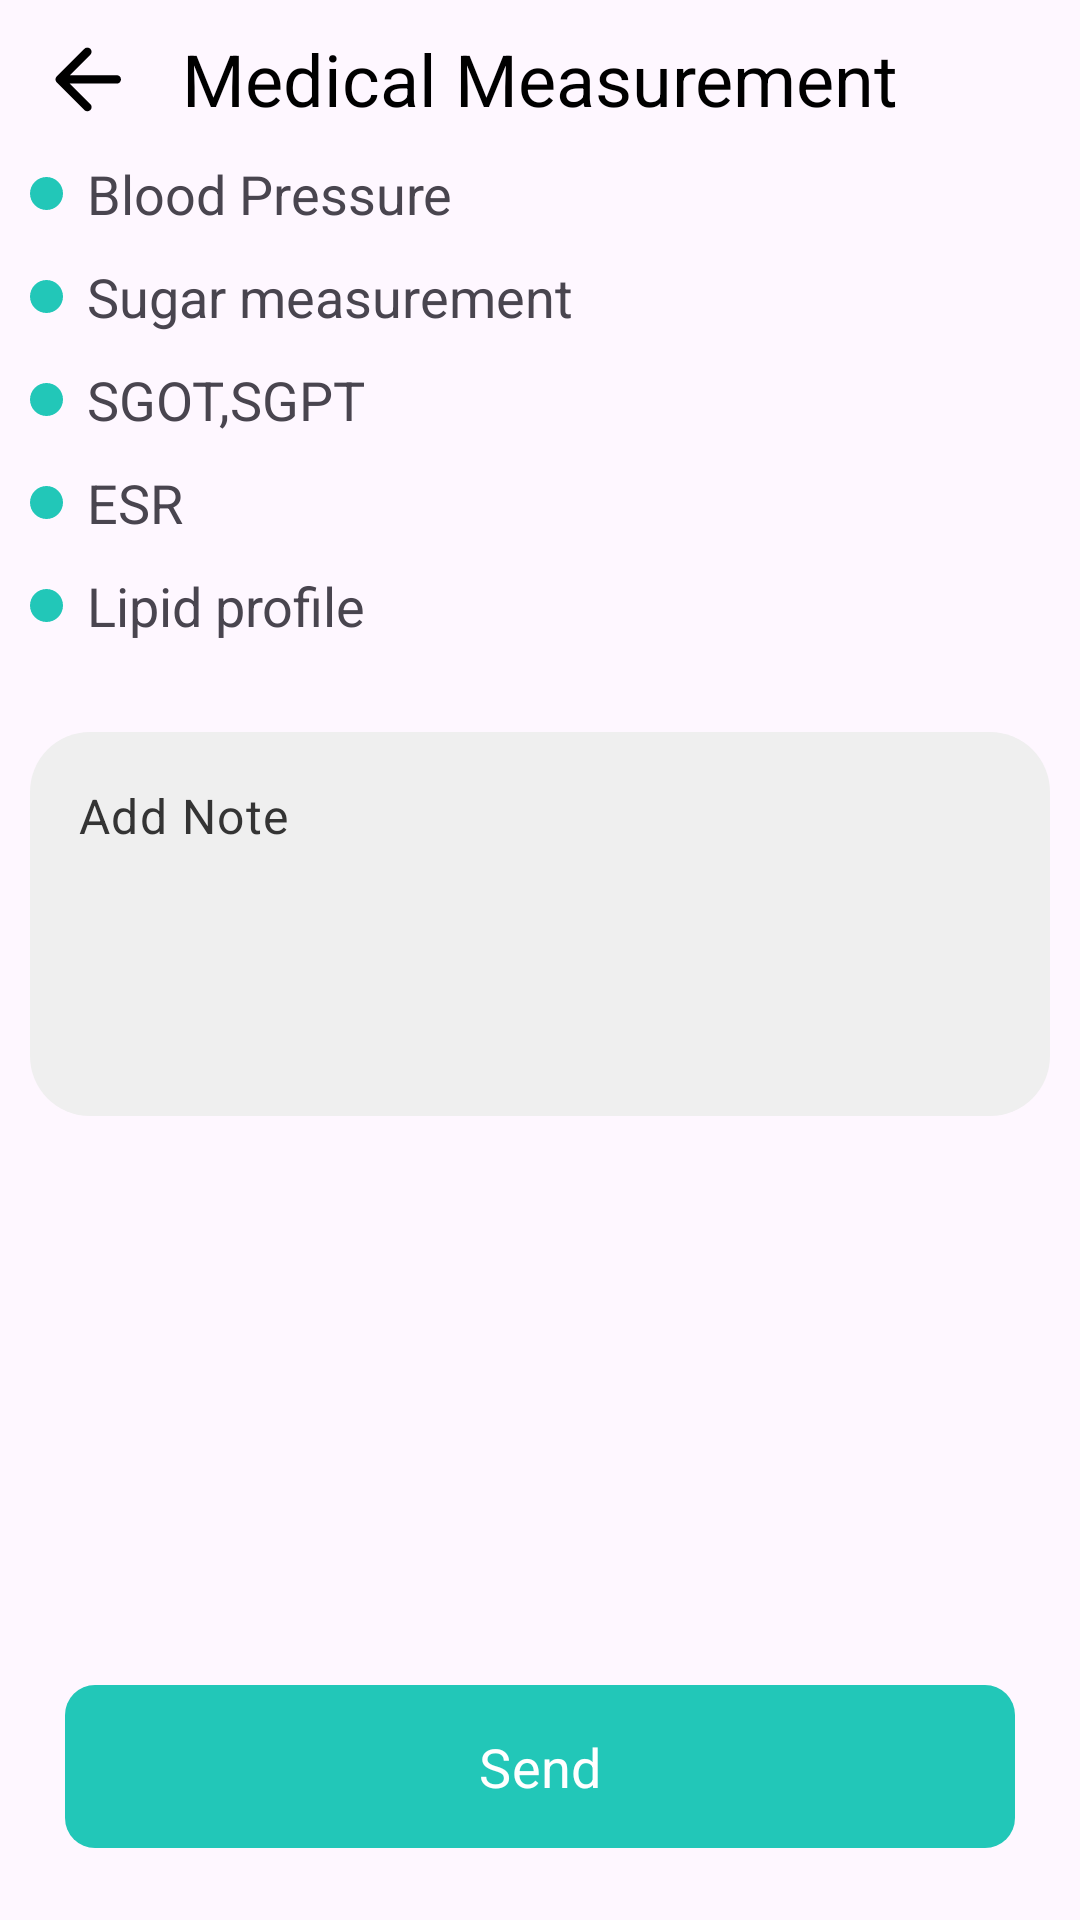

Named icons in this screenshot (1080w x 1920h) and their bounding boxes, box(x1, y1, x2, y2):
arrow back: box(55, 47, 121, 112)
